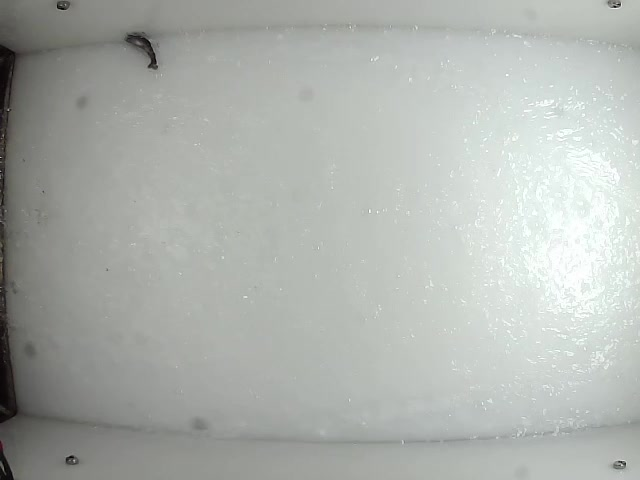fish: (123, 32, 161, 71)
